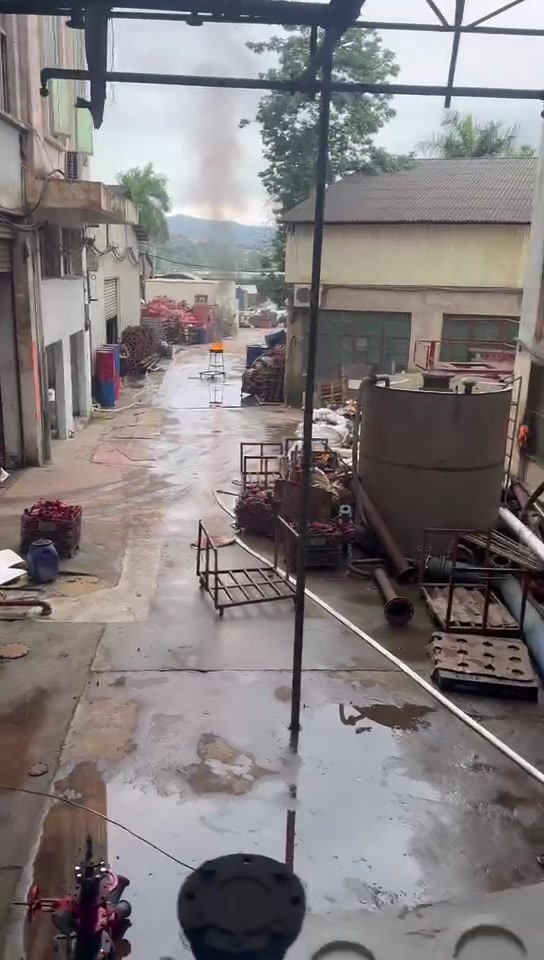fire: (210, 342, 224, 349)
